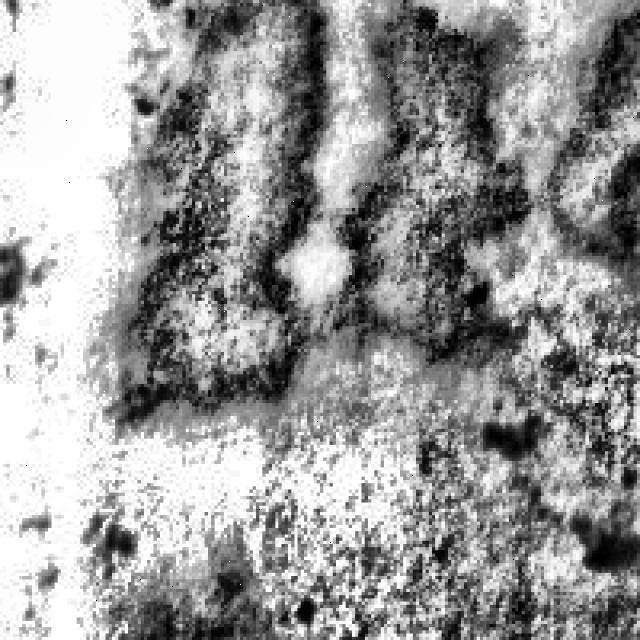Patches: (560, 490, 637, 572), (474, 400, 540, 461)
Scratches: (122, 0, 324, 419), (342, 0, 525, 365), (534, 0, 637, 269)
